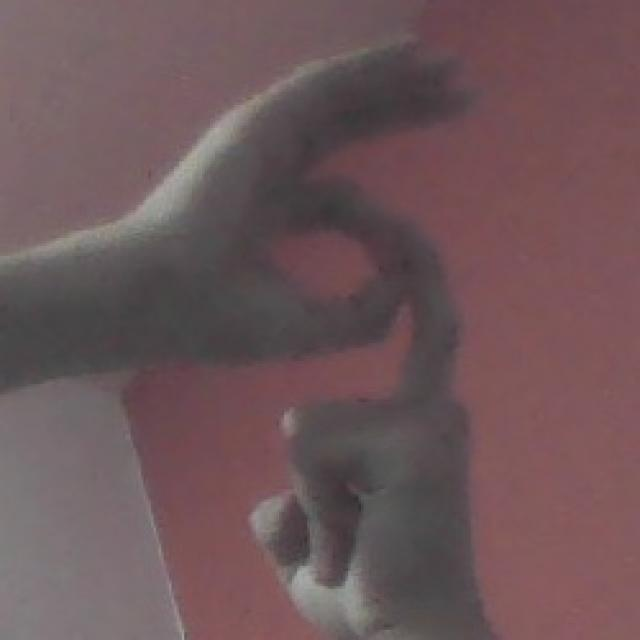Alphabet-P: (140, 36, 526, 640)
